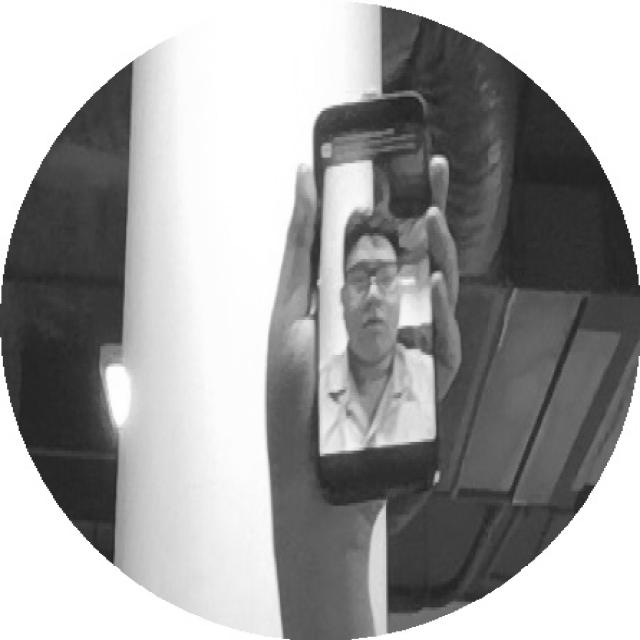fake: (280, 83, 472, 524), (320, 200, 416, 376)
